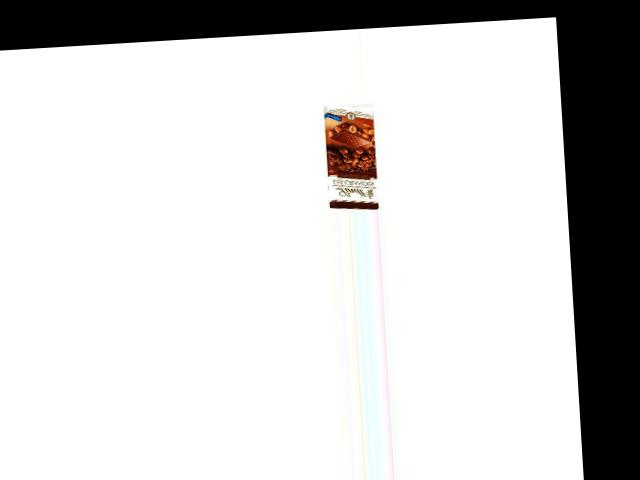chocolate: (320, 108, 386, 208)
